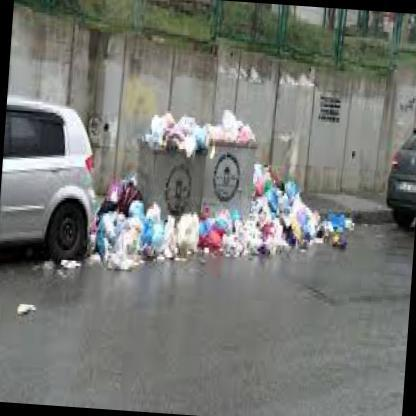Garbage: (252, 152, 362, 268), (136, 216, 280, 260), (94, 152, 142, 283), (144, 104, 260, 144), (152, 108, 206, 148), (206, 114, 250, 144), (176, 213, 200, 264), (332, 207, 364, 239), (138, 220, 166, 252), (306, 215, 326, 246), (204, 233, 226, 261), (228, 230, 251, 256), (157, 110, 178, 138), (176, 116, 197, 142), (218, 110, 238, 136), (204, 228, 225, 252), (222, 110, 238, 138), (282, 173, 297, 196), (332, 232, 346, 252)
